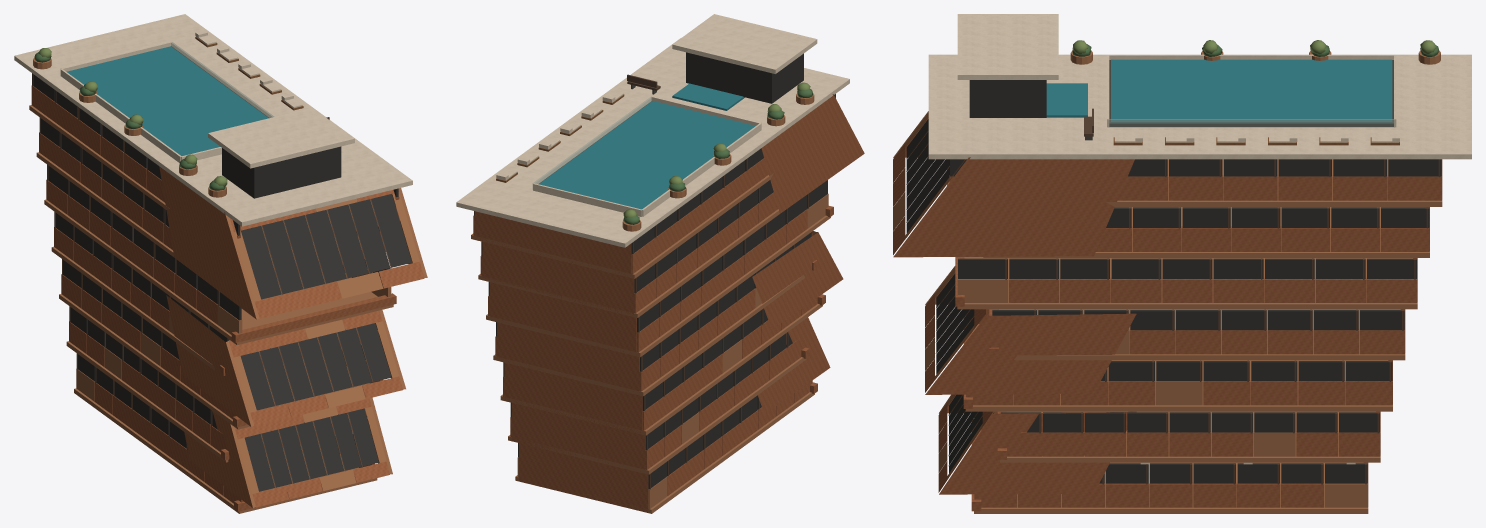
Rendered from clubhouse.glb.
The picture shows the model from 3 angles, left to right: view 1: azimuth 30°, elevation 25°; view 2: azimuth 150°, elevation 25°; view 3: azimuth 270°, elevation 25°; orthographic projection. The views are drawn at different scales.
Parts seen in each view (by area): view 1: Terracotta_raked_clubhouse, Clubhouse_rooftop_pools, Rooftop_pavilion_and_deck; view 2: Terracotta_raked_clubhouse, Clubhouse_rooftop_pools, Rooftop_pavilion_and_deck; view 3: Terracotta_raked_clubhouse, Clubhouse_rooftop_pools, Rooftop_pavilion_and_deck.
Part boxes in pixels (x1,y1,x2,y2): Terracotta_raked_clubhouse: (29,73,427,513); Clubhouse_rooftop_pools: (14,14,412,226); Rooftop_pavilion_and_deck: (208,107,354,198); Terracotta_raked_clubhouse: (471,94,864,513); Clubhouse_rooftop_pools: (456,38,849,247); Rooftop_pavilion_and_deck: (627,14,817,103); Terracotta_raked_clubhouse: (893,111,1442,513); Clubhouse_rooftop_pools: (928,40,1471,159); Rooftop_pavilion_and_deck: (957,14,1093,140).
Size of the model in its own units: 13.76 by 27.17 by 33.77.
Materials: 11 (3 with a texture image).
